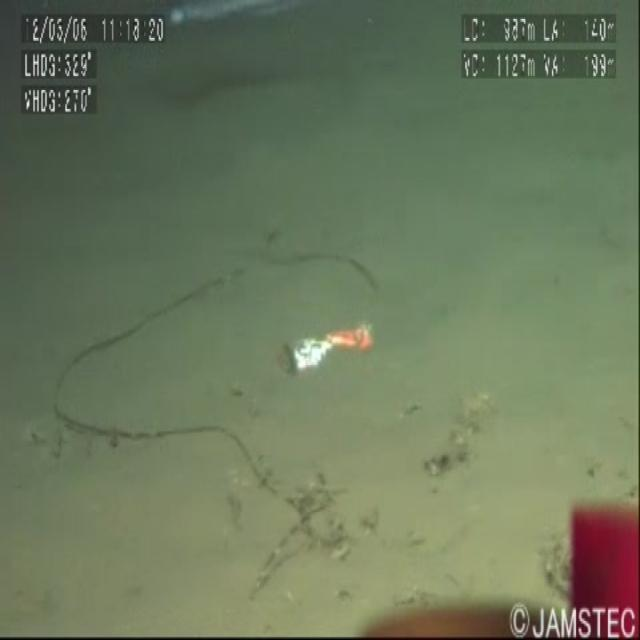Litter: (277, 300, 390, 402)
